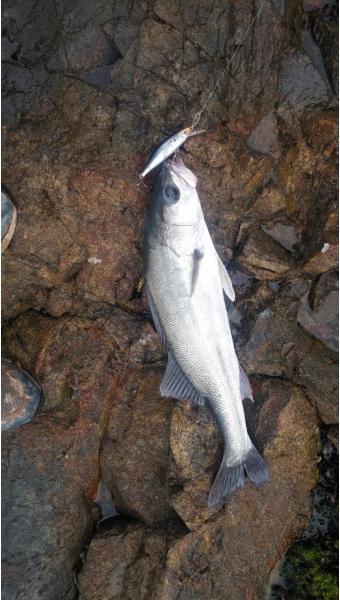fish: (145, 158, 268, 505)
